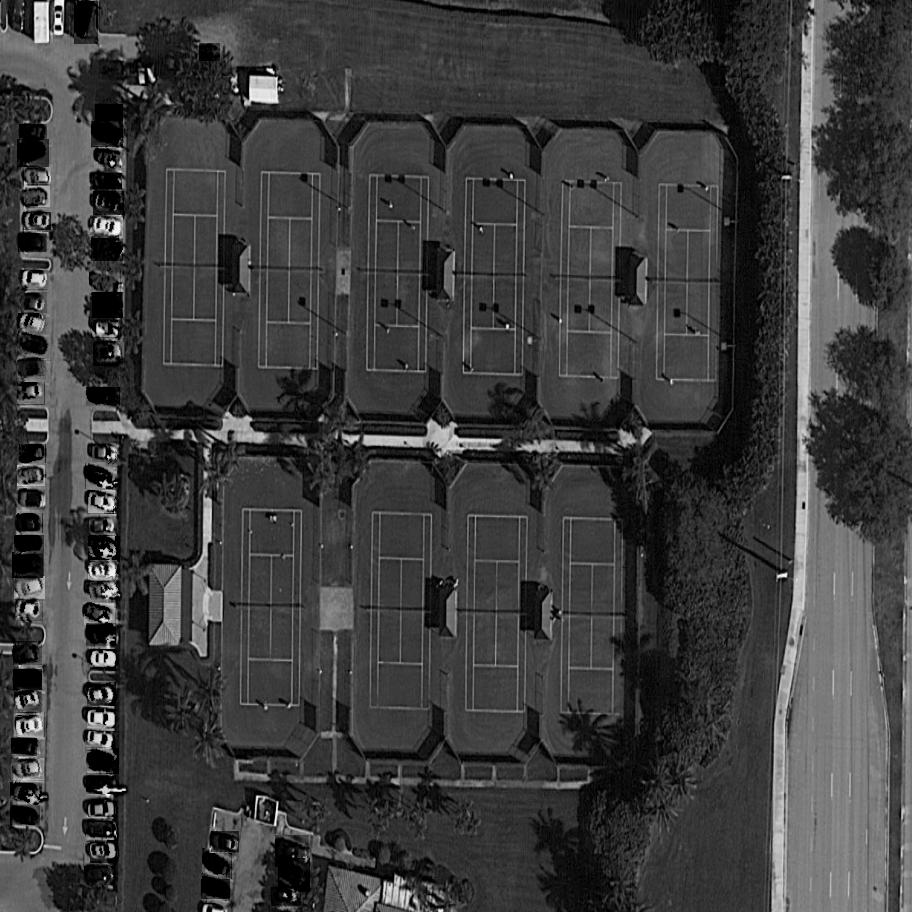small-vehicle: (272, 835, 313, 868), (275, 858, 312, 893), (199, 848, 235, 880), (74, 2, 99, 44), (86, 270, 124, 296), (91, 215, 125, 244), (17, 334, 52, 362), (17, 139, 51, 167), (87, 536, 121, 564), (86, 748, 120, 775), (90, 122, 125, 148), (13, 553, 46, 580), (15, 712, 49, 738), (84, 463, 118, 489), (93, 190, 126, 216), (91, 293, 123, 319), (10, 781, 43, 806), (93, 340, 123, 367), (14, 576, 45, 602), (13, 689, 44, 715), (11, 641, 43, 666), (86, 578, 119, 602), (84, 603, 117, 627), (87, 490, 119, 514), (87, 682, 117, 707), (11, 760, 44, 782), (87, 385, 120, 407), (91, 239, 124, 261), (84, 864, 117, 886), (18, 313, 48, 337), (86, 624, 117, 647), (16, 466, 48, 488), (13, 667, 42, 691), (209, 832, 242, 853), (22, 186, 53, 208), (17, 361, 49, 382), (95, 148, 126, 169), (85, 732, 116, 753), (88, 561, 119, 582), (18, 383, 46, 406), (87, 821, 117, 842), (10, 805, 41, 825), (201, 879, 232, 899), (15, 535, 45, 555), (21, 292, 48, 314), (16, 600, 44, 621), (21, 271, 49, 291), (23, 212, 52, 231), (18, 444, 47, 463), (272, 887, 301, 906), (19, 234, 47, 253), (87, 709, 115, 728), (18, 491, 45, 510), (91, 321, 119, 339), (86, 777, 114, 795), (17, 513, 42, 533), (91, 843, 117, 862), (89, 518, 115, 537), (90, 651, 116, 670), (93, 173, 123, 189), (95, 104, 123, 121), (24, 167, 51, 184), (198, 44, 222, 63), (20, 125, 47, 141), (89, 801, 115, 817), (92, 444, 116, 461), (12, 738, 36, 754)
